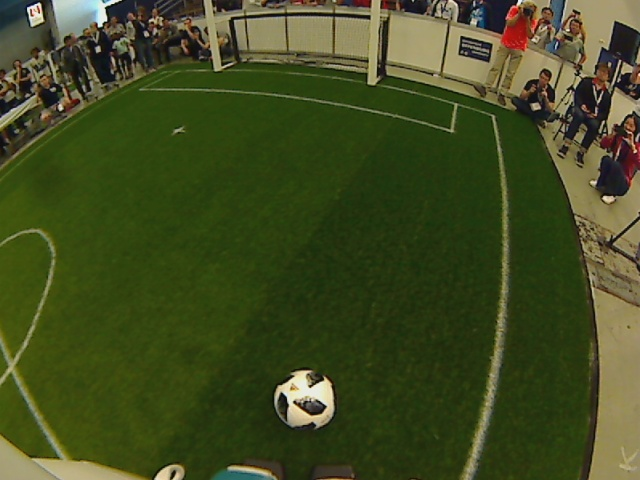ball: (270, 368, 340, 432)
